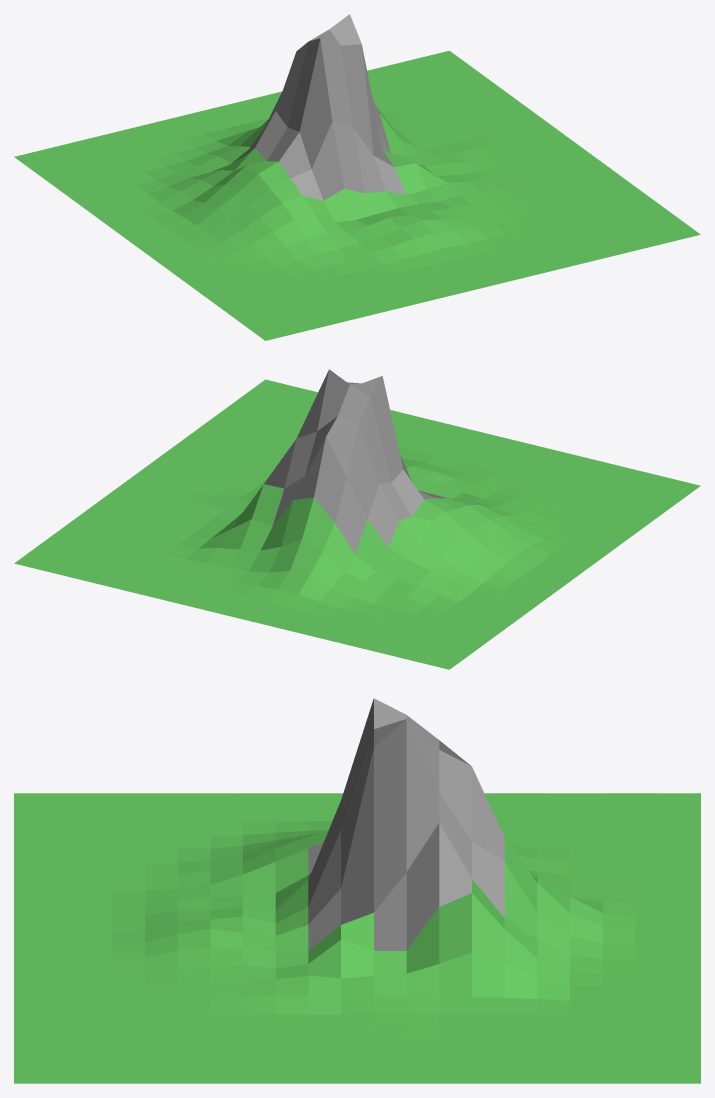
The model's file is mountain.glb.
The picture shows the model from 3 angles, top to bottom: view 1: azimuth 30°, elevation 25°; view 2: azimuth 150°, elevation 25°; view 3: azimuth 270°, elevation 25°; orthographic projection. The views are drawn at different scales.
Parts seen in each view (by area): view 1: Plane; view 2: Plane; view 3: Plane.
Boxes of the visible parts, x1,y1,x2,y2 form: Plane: [14, 14, 700, 340]; Plane: [14, 369, 700, 669]; Plane: [14, 698, 700, 1083].
Size of the model in its own units: 11.12 by 4.05 by 11.12.
1 material, 1 textured.
